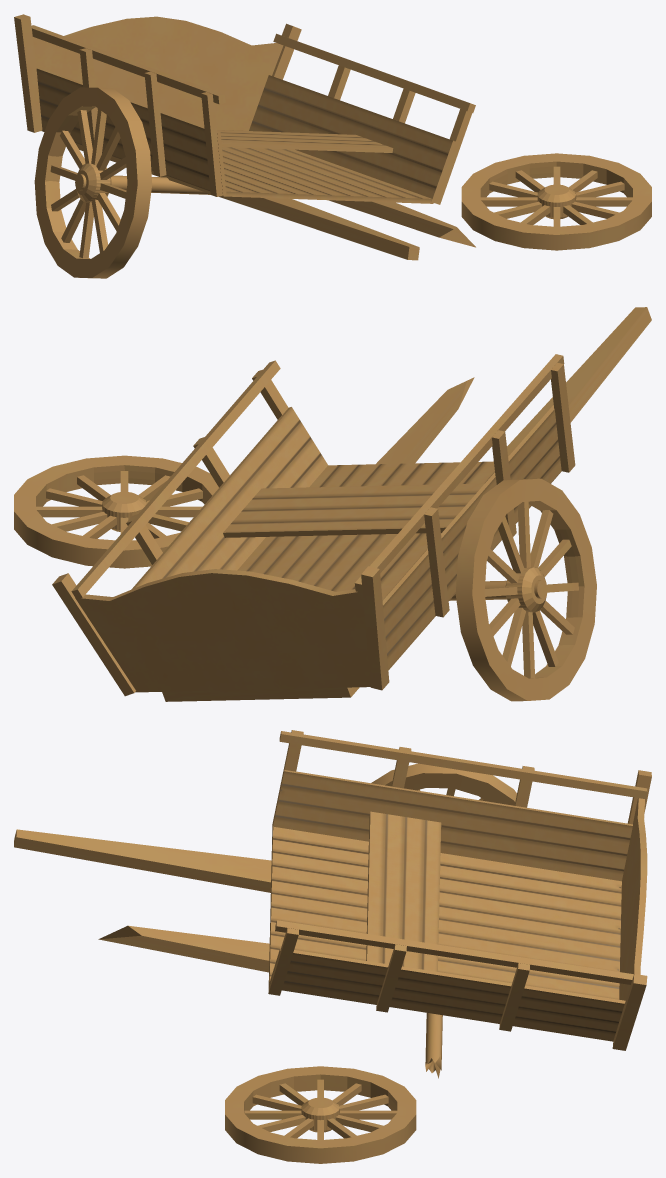
File: basha_20240909 (1).fbx
3 renders of one model, top to bottom at view 1: azimuth 30°, elevation 25°; view 2: azimuth 150°, elevation 25°; view 3: azimuth 270°, elevation 25°, orthographic. The views are drawn at different scales.
Visible parts, largest first — view 1: pCube13, polySurface6; view 2: pCube13, polySurface6; view 3: pCube13, polySurface6.
Part boxes in pixels (<box>): pCube13: <box>14,14,475,278</box>; polySurface6: <box>461,153,651,250</box>; pCube13: <box>52,307,651,701</box>; polySurface6: <box>14,455,218,568</box>; pCube13: <box>14,730,651,1078</box>; polySurface6: <box>225,1066,416,1163</box>.
Size of the model in its own units: 17.5 by 7.16 by 18.63.
1 material, 1 textured.
